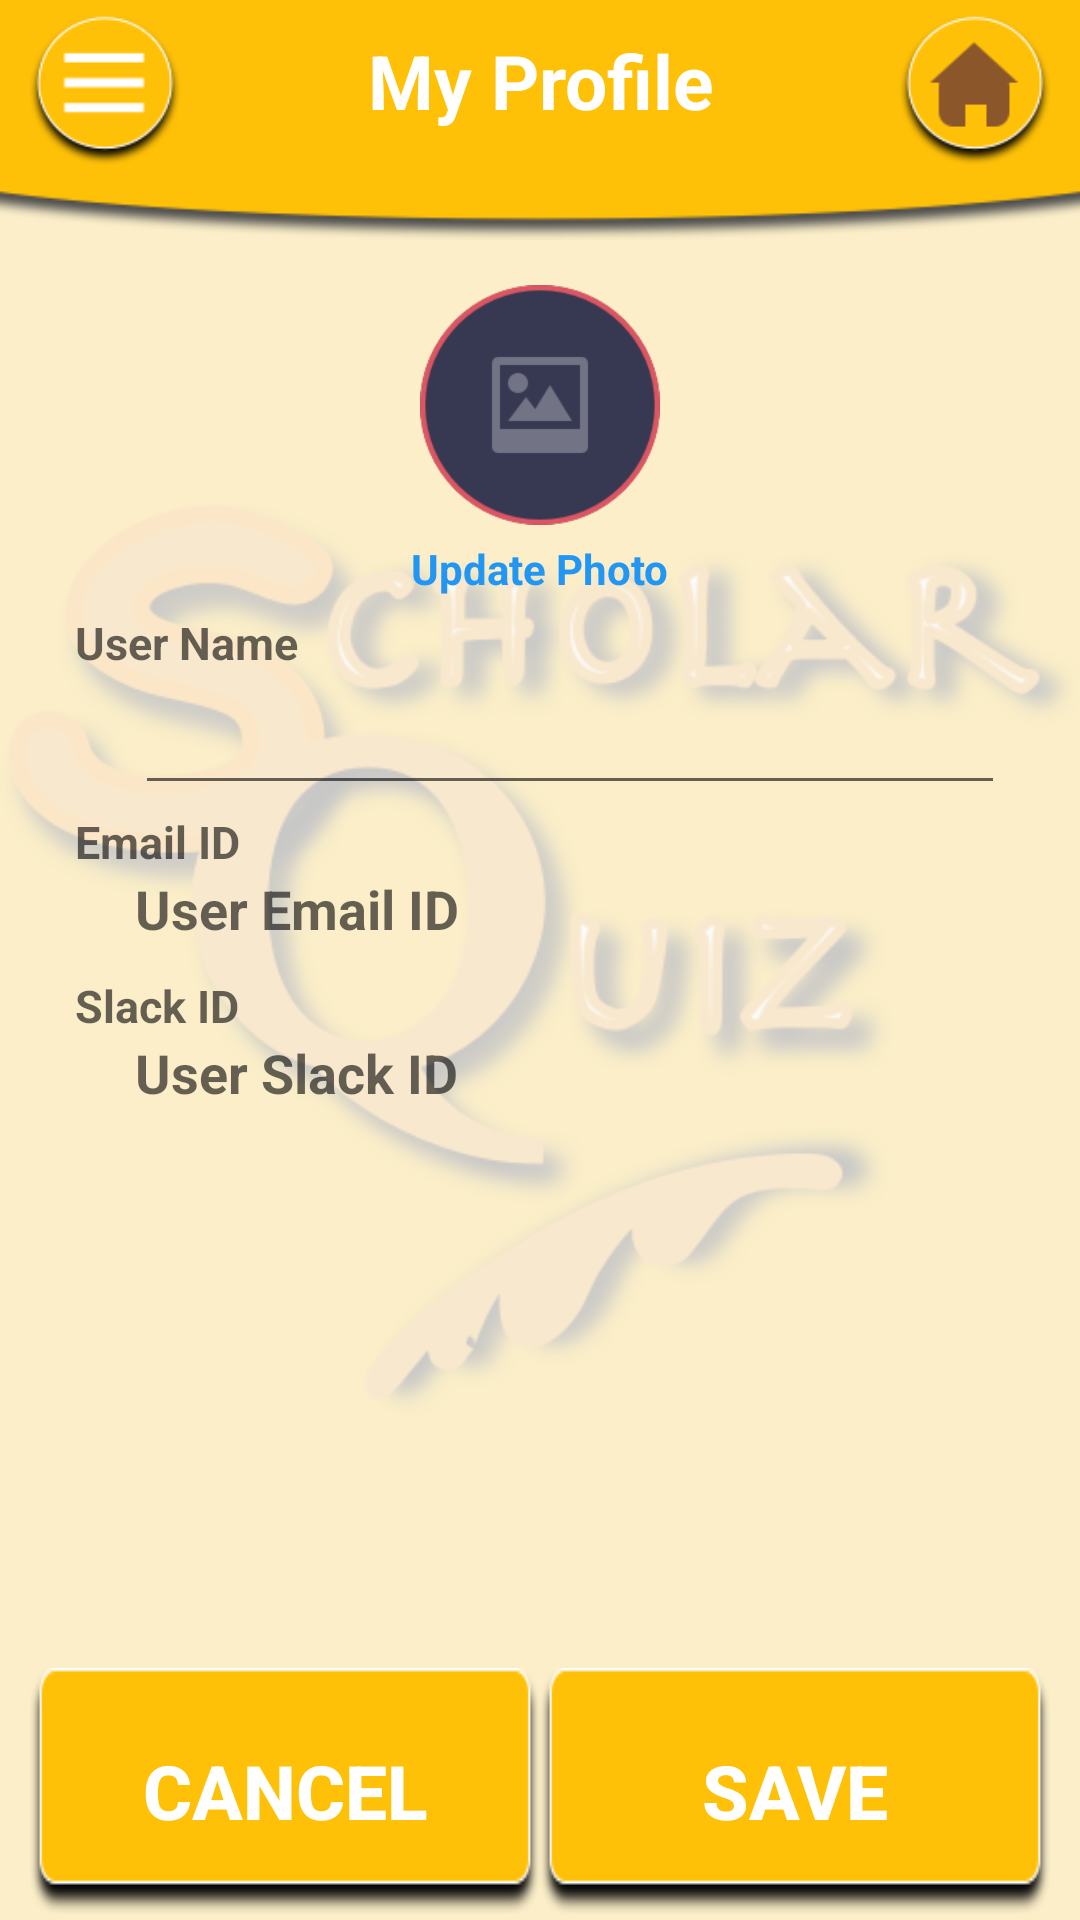

Icon click points for this 1080px x 1920px phone screenshot, format point (x, y):
home brown: point (975, 89)
menubutton: point (105, 89)
